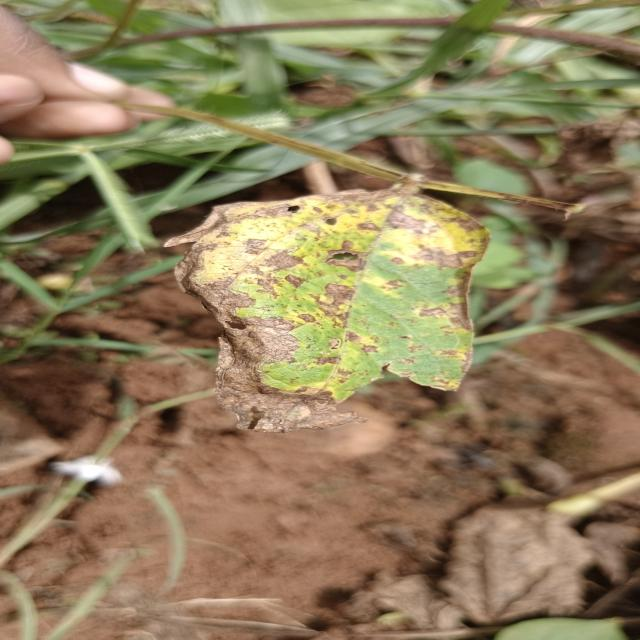Black gram_leaf spot: (154, 179, 501, 436)
